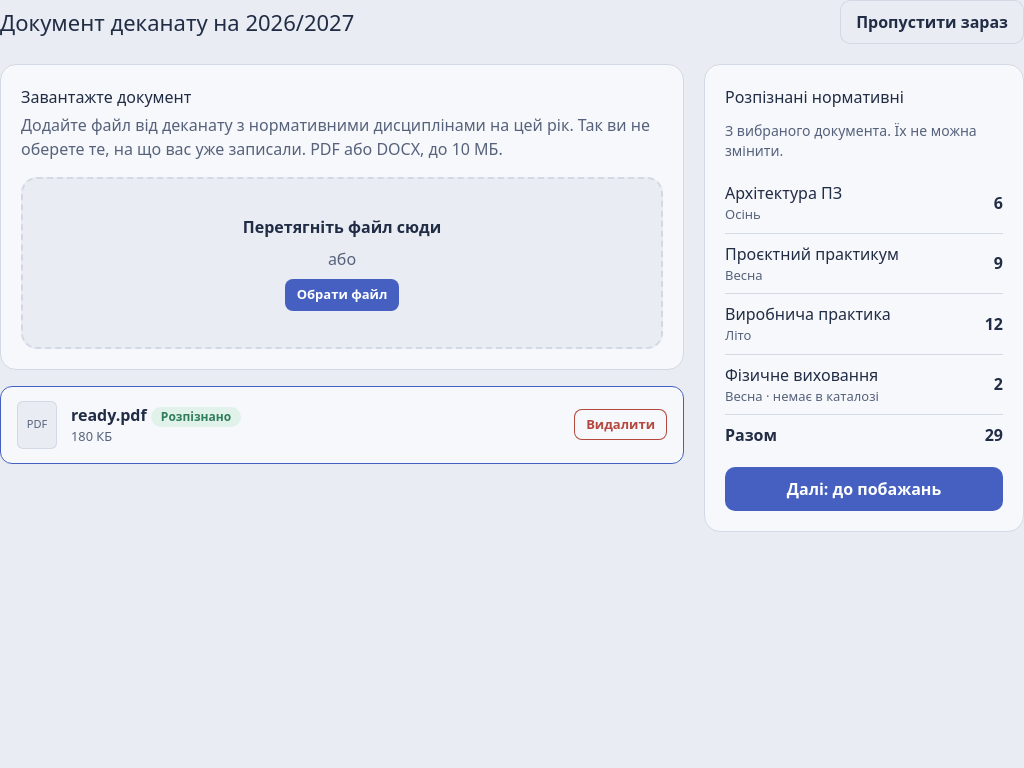
Test case: видалення документа › підтвердження прибирає картку
Step 1. Click the button "Видалити" → (621, 425), box [574,409,667,440]
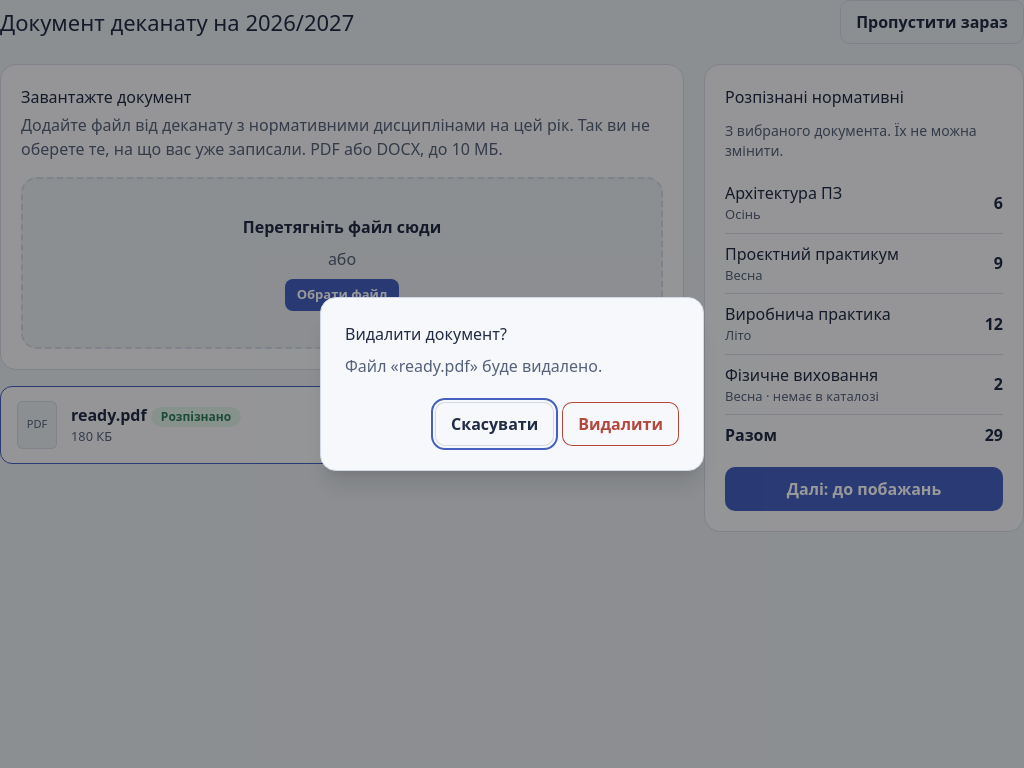
Step 2. Click the button "Видалити" → (621, 424), box [562,402,679,446]
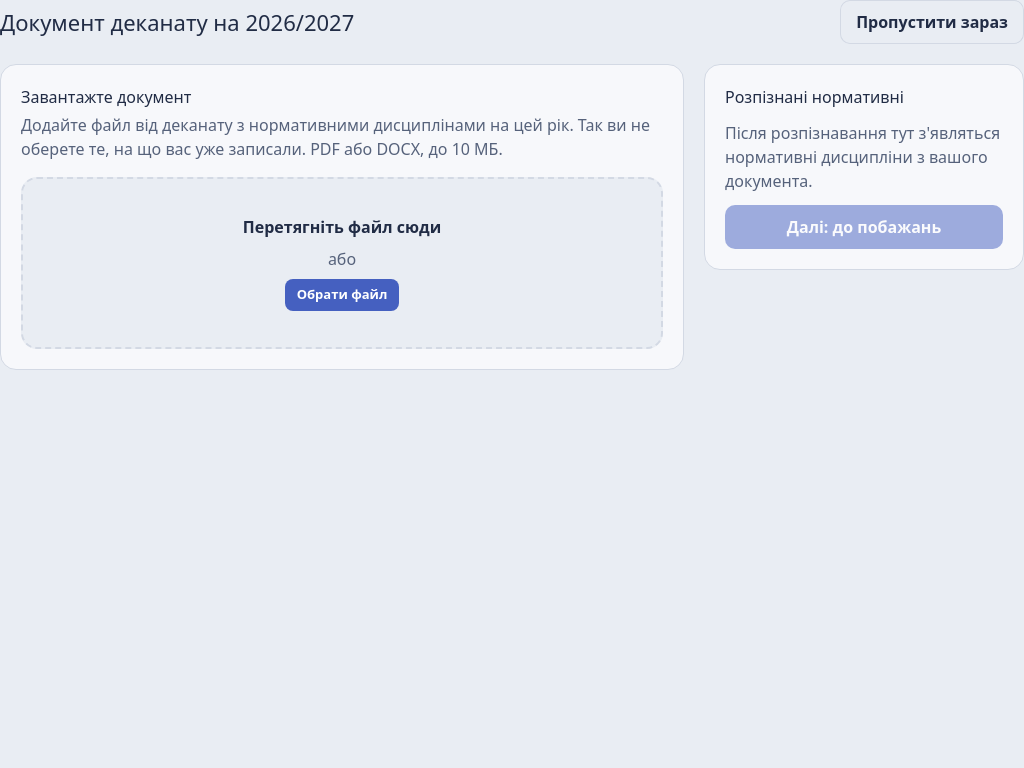
Check: the element with test id "doc-7" is gone
Check: the text "Після розпізнавання тут з'являться нормативні" is shown, box [725,122,1000,192]
